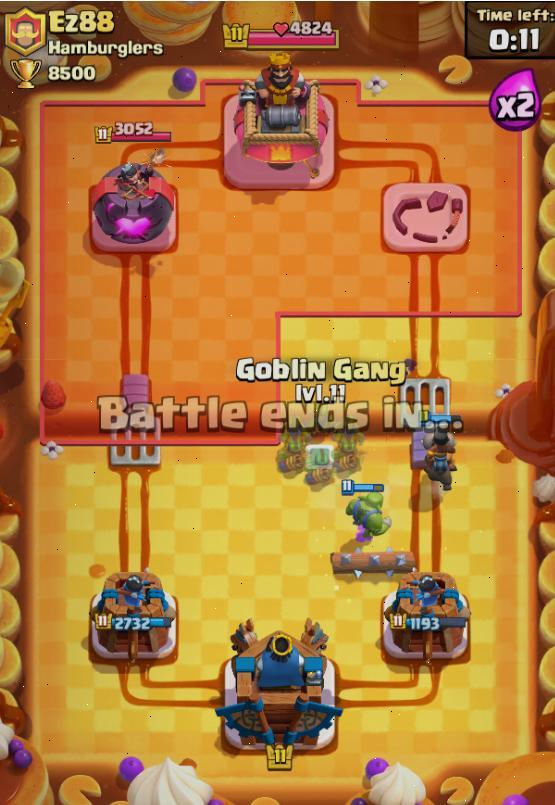EKingTower: (224, 54, 334, 187)
EnemyPrincessTower: (90, 150, 176, 253)
OBrawler: (341, 480, 391, 541)
ORamrider: (423, 414, 461, 491)
OSpearGoblin: (305, 445, 334, 490), (276, 434, 304, 478), (334, 434, 360, 478)
OwnKingTower: (216, 620, 341, 752)
OwnPrincessTower: (89, 570, 175, 662), (382, 573, 469, 663)
TowerDown: (382, 183, 469, 253)
